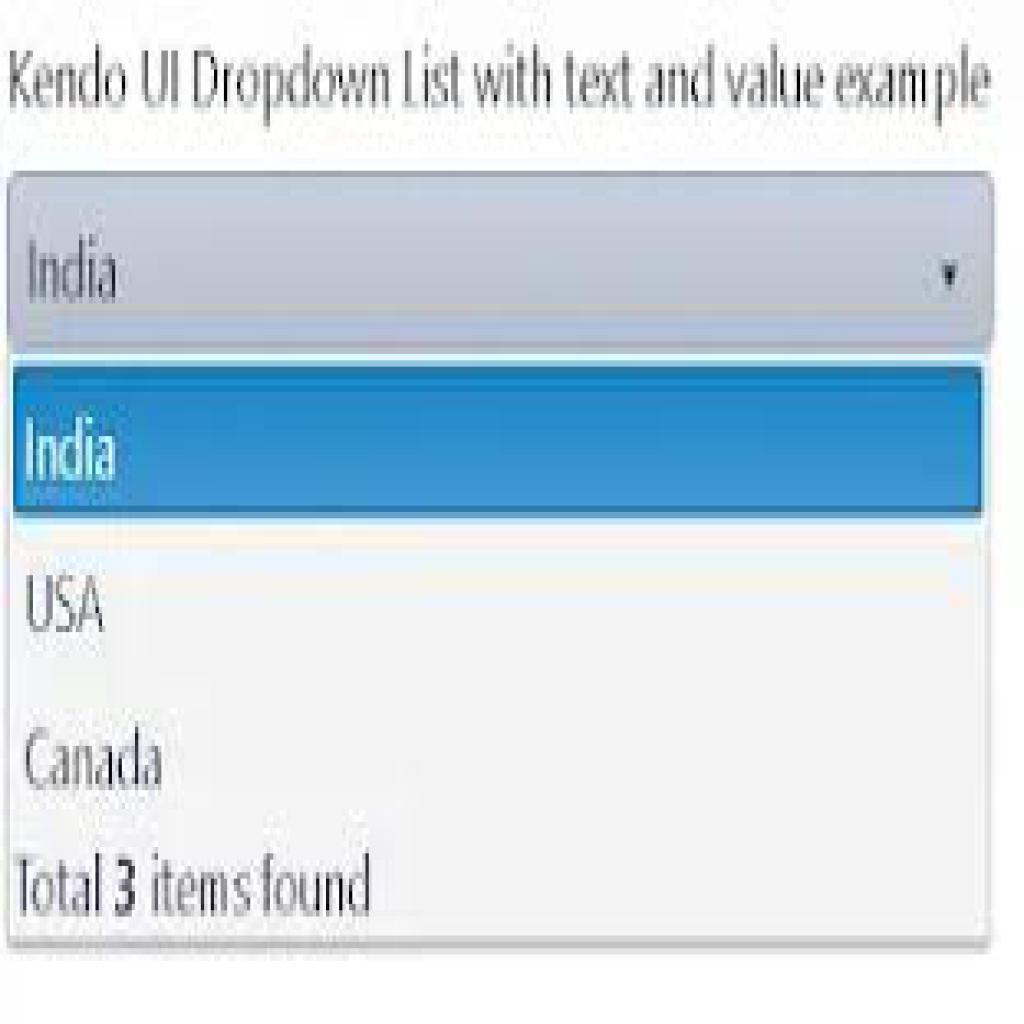dropdown: (10, 174, 996, 350)
